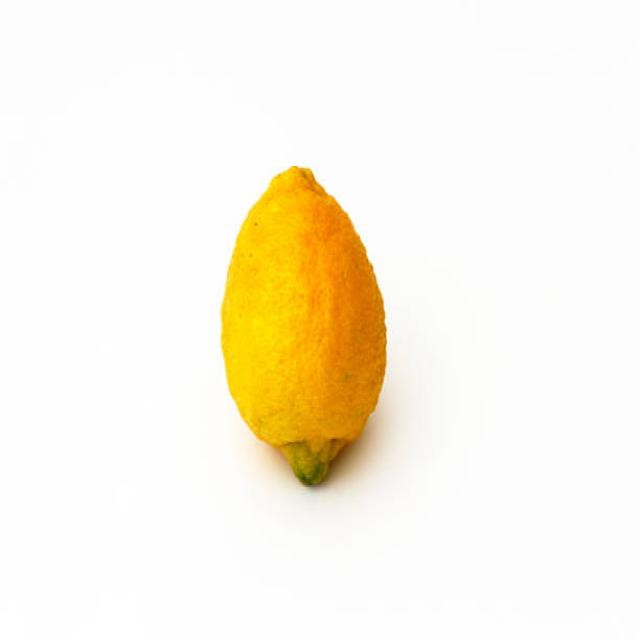Ripe: (216, 156, 393, 493)
